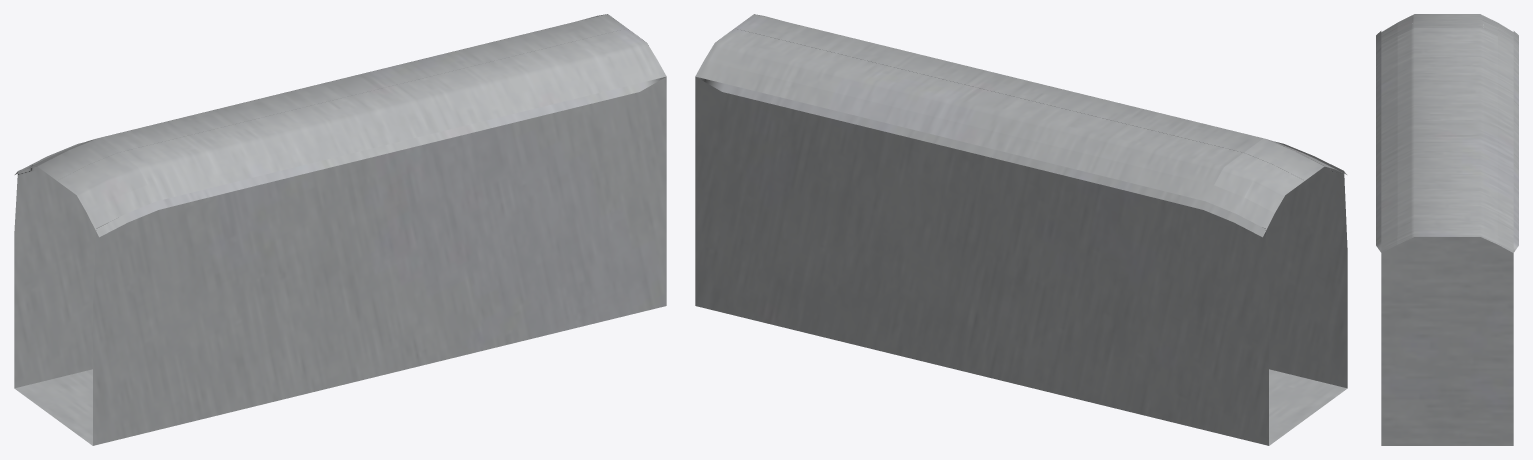
File: Body.glb
3 renders of one model, left to right at view 1: azimuth 30°, elevation 25°; view 2: azimuth 150°, elevation 25°; view 3: azimuth 270°, elevation 25°, orthographic. The views are drawn at different scales.
Visible parts, largest first — view 1: Body; view 2: Body; view 3: Body.
Boxes of the visible parts, x1,y1,x2,y2 form: Body: [14, 14, 666, 445]; Body: [695, 14, 1347, 445]; Body: [1376, 14, 1518, 445].
Bounding box in the file's own units: 0.8001 × 0.3315 × 0.2051.
1 material, 1 textured.
